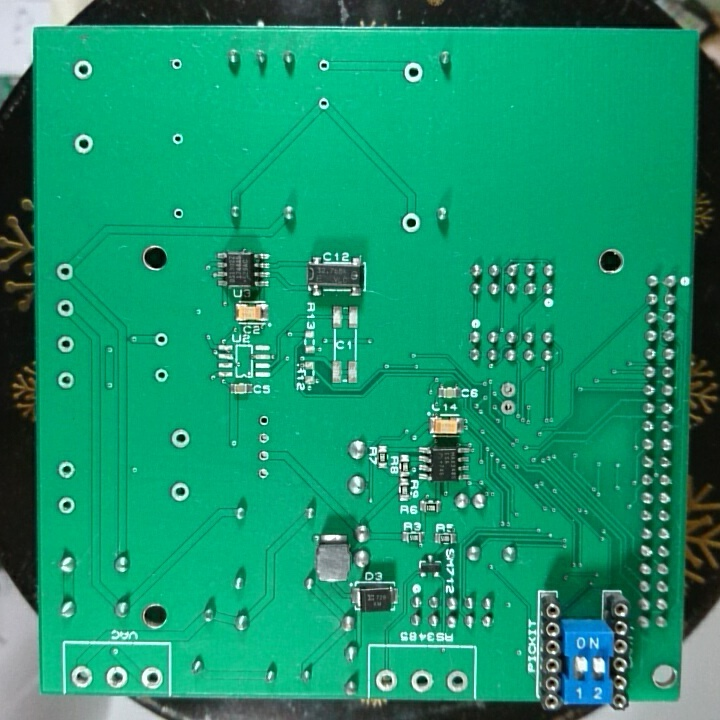F: (408, 666, 437, 694), (166, 477, 194, 505), (69, 663, 95, 692), (102, 664, 131, 690), (444, 666, 470, 695), (139, 663, 165, 691), (70, 131, 96, 158), (168, 425, 194, 452), (400, 60, 426, 86), (398, 210, 425, 235), (70, 57, 95, 83), (374, 665, 398, 692), (54, 458, 79, 482), (54, 259, 77, 284), (55, 368, 77, 394), (54, 296, 77, 320), (55, 332, 78, 356), (54, 495, 78, 518), (497, 397, 517, 418), (254, 463, 274, 483), (499, 379, 519, 399), (152, 364, 171, 385), (169, 129, 188, 149), (152, 329, 170, 350), (168, 55, 186, 75), (256, 411, 274, 429), (171, 204, 188, 223), (255, 446, 274, 463), (316, 55, 332, 75), (256, 429, 274, 446), (315, 94, 331, 113)
